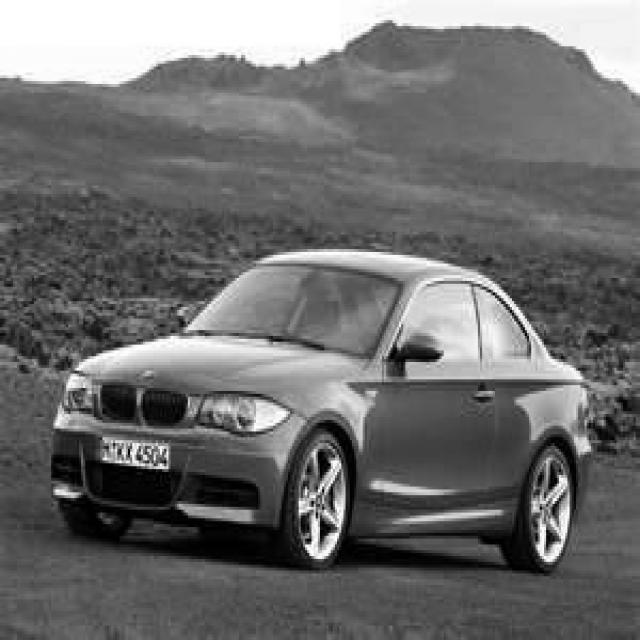car: (49, 246, 593, 574)
